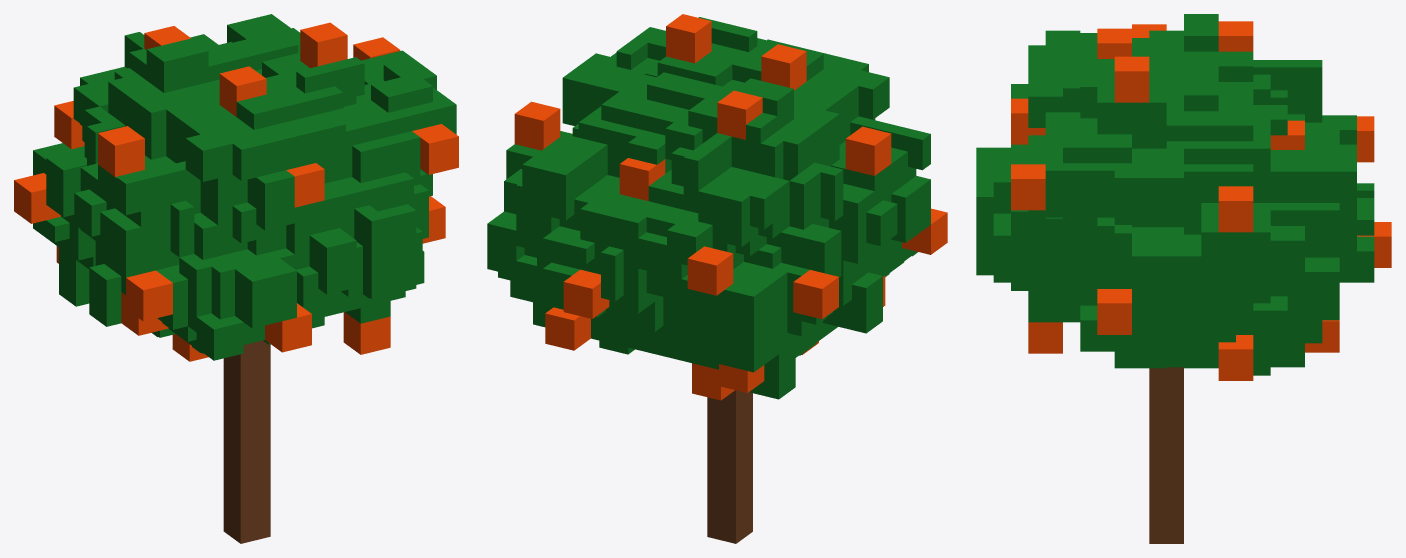
File: tree_orange.dae
3 views of the same model, side by side, from view 1: azimuth 30°, elevation 25°; view 2: azimuth 150°, elevation 25°; view 3: azimuth 270°, elevation 25° (orthographic). The views are drawn at different scales.
Parts seen in each view (by area): view 1: PlaneCOL; view 2: PlaneCOL; view 3: PlaneCOL.
Part boxes in pixels (<box>): PlaneCOL: <box>14,14,458,543</box>; PlaneCOL: <box>487,14,947,543</box>; PlaneCOL: <box>976,14,1391,543</box>.
Bounding box in the file's own units: 2.4 × 2.4 × 3.2.
